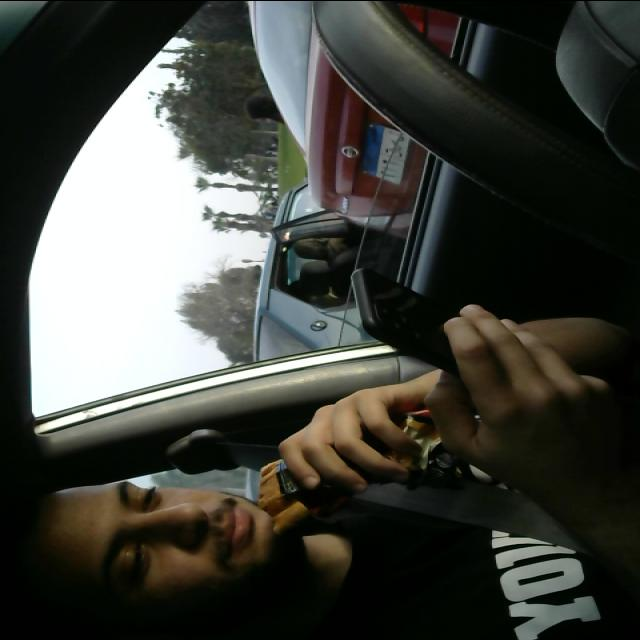eating: (250, 408, 456, 538)
mobile use: (350, 258, 524, 394)
